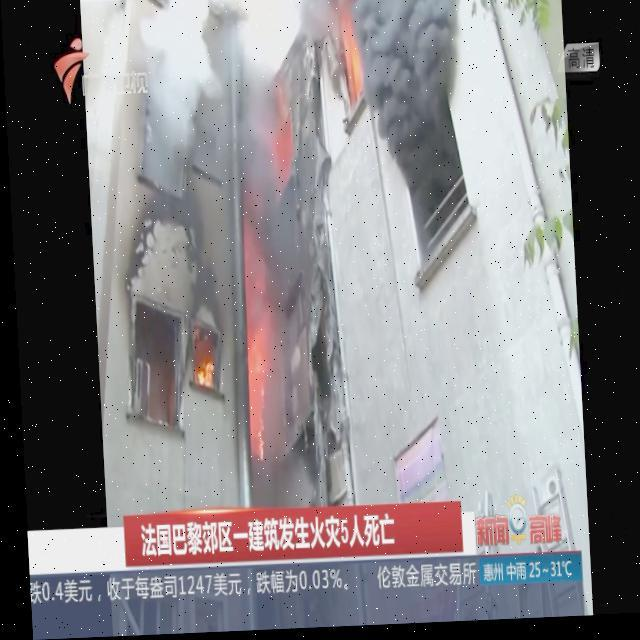Fire: (236, 221, 270, 464), (335, 12, 371, 110), (266, 94, 296, 193), (188, 331, 216, 396)
